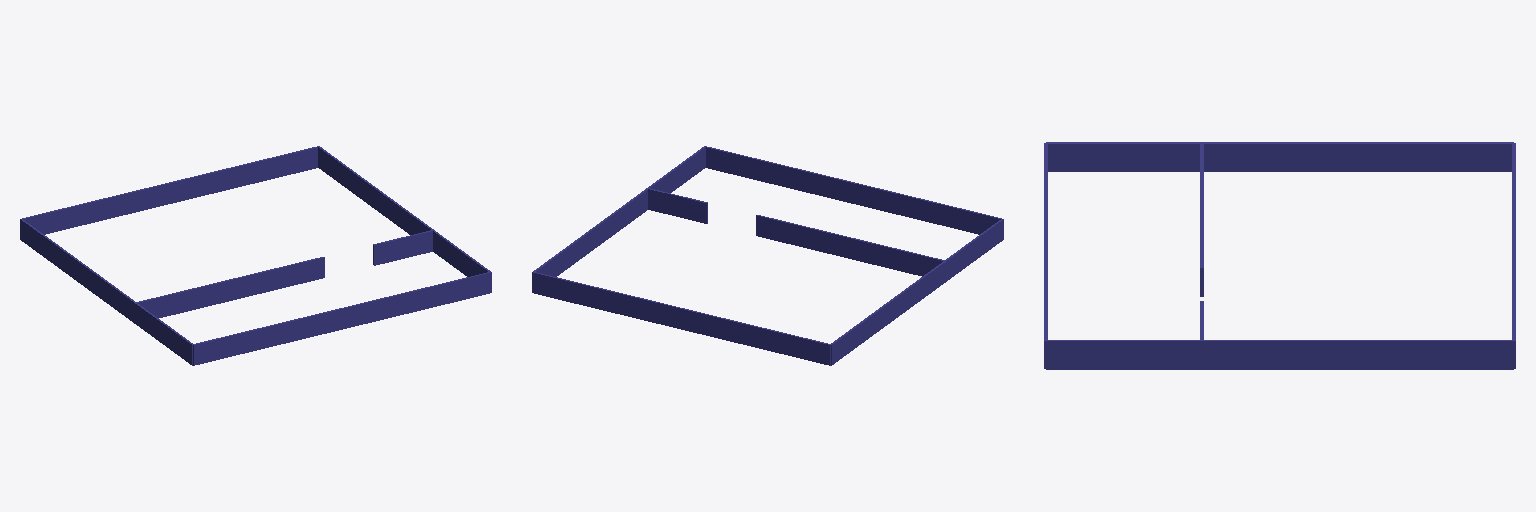
URDF robot description (room):
<?xml version="1.0"?>
<robot name="room">
    <material name="wall">
        <color rgba="0.3 0.3 0.6 0.2"/>
    </material>

    <link name="base">
        <inertial>
            <origin xyz="0.0 10.0 0.0" rpy="0.0 0.0 0.0"/>
            <mass value="100"/>
            <inertia ixx="0.0" ixy="0.0" ixz="0.0" iyy="0.0" iyz="0.0" izz="0.0"/>
        </inertial>

        <visual>
            <origin xyz="0.0 10.0 0.0" rpy="0.0 0.0 0.0"/>
            <geometry>
                <box size="30.0 0.2 2"/>
            </geometry>
            <material name="wall"/>
        </visual>
        
        <collision>
            <origin xyz="0.0 10.0 0.0" rpy="0.0 0.0 0.0"/>
            <geometry>
                <box size="30.0 0.2 2"/>
            </geometry>
        </collision>
    </link>

    
    <link name="wall2">
        <inertial>
            <origin xyz="15 0.0 0.0" rpy="0.0 0.0 0.0"/>
            <mass value="100"/>
            <inertia ixx="0.0" ixy="0.0" ixz="0.0" iyy="0.0" iyz="0.0" izz="0.0"/>
        </inertial>

        <visual>
            <origin xyz="15.0 -5.0 0.0" rpy="0.0 0.0 0.0"/>
            <geometry>
                <box size="0.2 30 2"/>
            </geometry>
            <material name="wall"/>
        </visual>
        
        <collision>
            <origin xyz="15.0 -5.0 0.0" rpy="0.0 0.0 0.0"/>
            <geometry>
                <box size="0.2 30 2"/>
            </geometry>
        </collision>
    </link>
    <joint name="wall2_joint" type="fixed">
        <origin xyz="0.0 0.0 0.0" rpy="0.0 0.0 0.0"/>
        <parent link="base"/>
        <child link="wall2"/>
    </joint>

    <link name="wall3">
        <inertial>
            <origin xyz="-15.0 -5.0 0.0" rpy="0.0 0.0 0.0"/>
            <mass value="100"/>
            <inertia ixx="0.0" ixy="0.0" ixz="0.0" iyy="0.0" iyz="0.0" izz="0.0"/>
        </inertial>

        <visual>
            <origin xyz="-15.0 -5.0 0.0" rpy="0.0 0.0 0.0"/>
            <geometry>
                <box size="0.2 30 2"/>
            </geometry>
            <material name="wall"/>
        </visual>
        
        <collision>
            <origin xyz="-15.0 0.0 0.0" rpy="0.0 0.0 0.0"/>
            <geometry>
                <box size="0.2 30 2"/>
            </geometry>
        </collision>
    </link>
    <joint name="wall3_joint" type="fixed">
        <origin xyz="0.0 0.0 0.0" rpy="0.0 0.0 0.0"/>
        <parent link="base"/>
        <child link="wall3"/>
    </joint>

    <link name="wall4">
        <inertial>
            <origin xyz="-5.5 -10 0.0" rpy="0.0 0.0 0.0"/>
            <mass value="100"/>
            <inertia ixx="0.0" ixy="0.0" ixz="0.0" iyy="0.0" iyz="0.0" izz="0.0"/>
        </inertial>

        <visual>
            <origin xyz="-5.5 -10 0.0" rpy="0.0 0.0 0.0"/>
            <geometry>
                <box size="19 0.2 2"/>
            </geometry>
            <material name="wall"/>
        </visual>
        
        <collision>
            <origin xyz="-5.5 -10 0.0" rpy="0.0 0.0 0.0"/>
            <geometry>
                <box size="16 0.2 2"/>
            </geometry>
        </collision>
    </link>
    <joint name="wall4_joint" type="fixed">
        <origin xyz="0.0 0.0 0.0" rpy="0.0 0.0 0.0"/>
        <parent link="wall3"/>
        <child link="wall4"/>
    </joint>

    
    <link name="wall5">
        <inertial>
            <origin xyz="12 -10 0.0" rpy="0.0 0.0 0.0"/>
            <mass value="100"/>
            <inertia ixx="0.0" ixy="0.0" ixz="0.0" iyy="0.0" iyz="0.0" izz="0.0"/>
        </inertial>

        <visual>
            <origin xyz="12 -10 0.0" rpy="0.0 0.0 0.0"/>
            <geometry>
                <box size="6 0.2 2"/>
            </geometry>
            <material name="wall"/>
        </visual>
        
        <collision>
            <origin xyz="12 -10 0.0" rpy="0.0 0.0 0.0"/>
            <geometry>
                <box size="6 0.2 2"/>
            </geometry>
        </collision>
    </link>
    <joint name="wall5_joint" type="fixed">
        <origin xyz="0.0 0.0 0.0" rpy="0.0 0.0 0.0"/>
        <parent link="wall2"/>
        <child link="wall5"/>
    </joint>

    <link name="wall6">
        <inertial>
            <origin xyz="0.0 10.0 0.0" rpy="0.0 0.0 0.0"/>
            <mass value="100"/>
            <inertia ixx="0.0" ixy="0.0" ixz="0.0" iyy="0.0" iyz="0.0" izz="0.0"/>
        </inertial>

        <visual>
            <origin xyz="0.0 -20.0 0.0" rpy="0.0 0.0 0.0"/>
            <geometry>
                <box size="30.0 0.2 2"/>
            </geometry>
            <material name="wall"/>
        </visual>
        
        <collision>
            <origin xyz="0.0 10.0 0.0" rpy="0.0 0.0 0.0"/>
            <geometry>
                <box size="30.0 0.2 2"/>
            </geometry>
        </collision>
    </link>
    <joint name="wall6_joint" type="fixed">
        <origin xyz="0.0 0.0 0.0" rpy="0.0 0.0 0.0"/>
        <parent link="wall3"/>
        <child link="wall6"/>
    </joint>
</robot>

--- What the picture shows (computed from the rendered views, not written in the file) ---
The picture shows the robot from 3 angles, left to right: view 1: azimuth 30°, elevation 25°; view 2: azimuth 150°, elevation 25°; view 3: azimuth 270°, elevation 25°; orthographic projection.
Model room with 6 links and 5 joints (5 fixed), rooted at base, posed every joint at zero.
Links seen in each view (by area): view 1: wall6, base, wall3, wall4, wall2, wall5; view 2: base, wall6, wall3, wall4, wall2, wall5; view 3: wall2, wall3, base, wall6, wall4.
Link boxes in pixels (x1,y1,x2,y2): wall6: (193,272,490,365); base: (22,146,318,234); wall3: (20,219,192,365); wall4: (137,257,324,317); wall2: (318,146,491,292); wall5: (373,230,432,265); base: (533,272,830,365); wall6: (705,146,1001,234); wall3: (831,219,1003,365); wall4: (756,215,945,276); wall2: (532,146,705,292); wall5: (648,188,707,223); wall2: (1046,340,1513,369); wall3: (1046,142,1513,171); base: (1512,143,1515,368); wall6: (1044,143,1047,368); wall4: (1200,144,1203,296).
Size in the robot's own frame: 30.2 by 30.2 by 2 metres.
Geometry: primitives only (box / cylinder / sphere), no mesh files.
